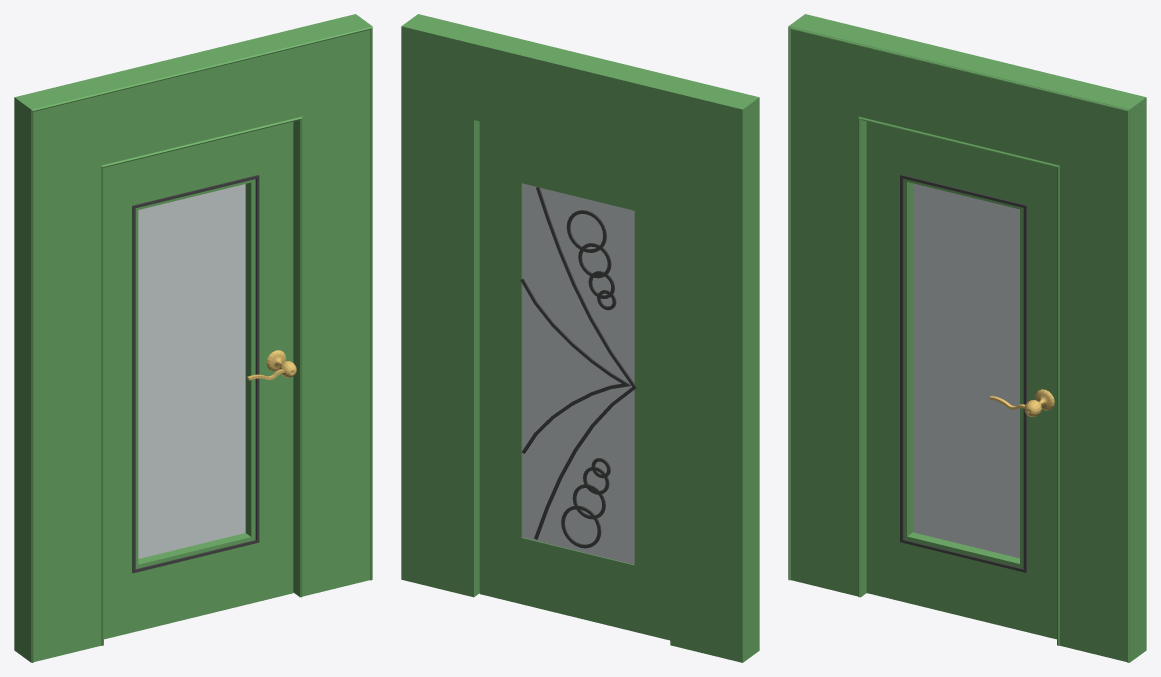
The model's file is DoorBathroom1.fbx.
3 views of the same model, side by side, from view 1: azimuth 30°, elevation 25°; view 2: azimuth 150°, elevation 25°; view 3: azimuth 330°, elevation 25° (orthographic).
Parts seen in each view (by area): view 1: Rectangle0; view 2: Rectangle0; view 3: Rectangle0.
Boxes of the visible parts, x1,y1,x2,y2 form: Rectangle0: (14, 14, 372, 662); Rectangle0: (401, 14, 759, 662); Rectangle0: (788, 14, 1146, 662).
Size of the model in its own units: 753 by 1167 by 104.
